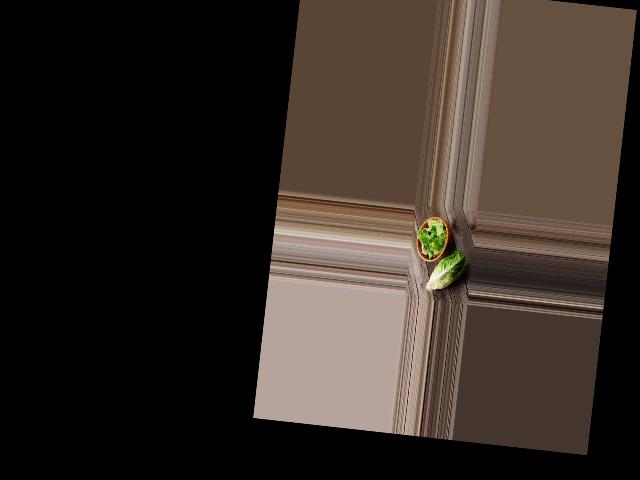lettuce: (425, 247, 469, 293)
